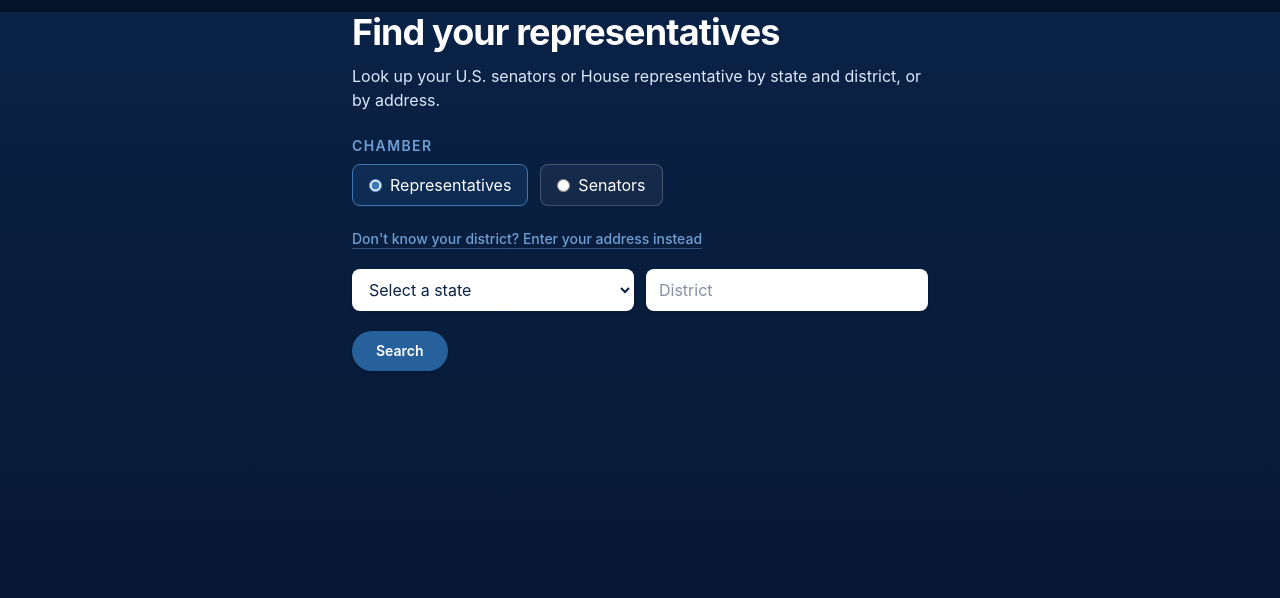
chamber/mode switching regression › clears a selected state that is not senate-eligible when switching to Senators
The width and height of the screenshot is (1280, 598).
Select "Puerto Rico" in the dropdown at (493,290), box [352,269,634,311]
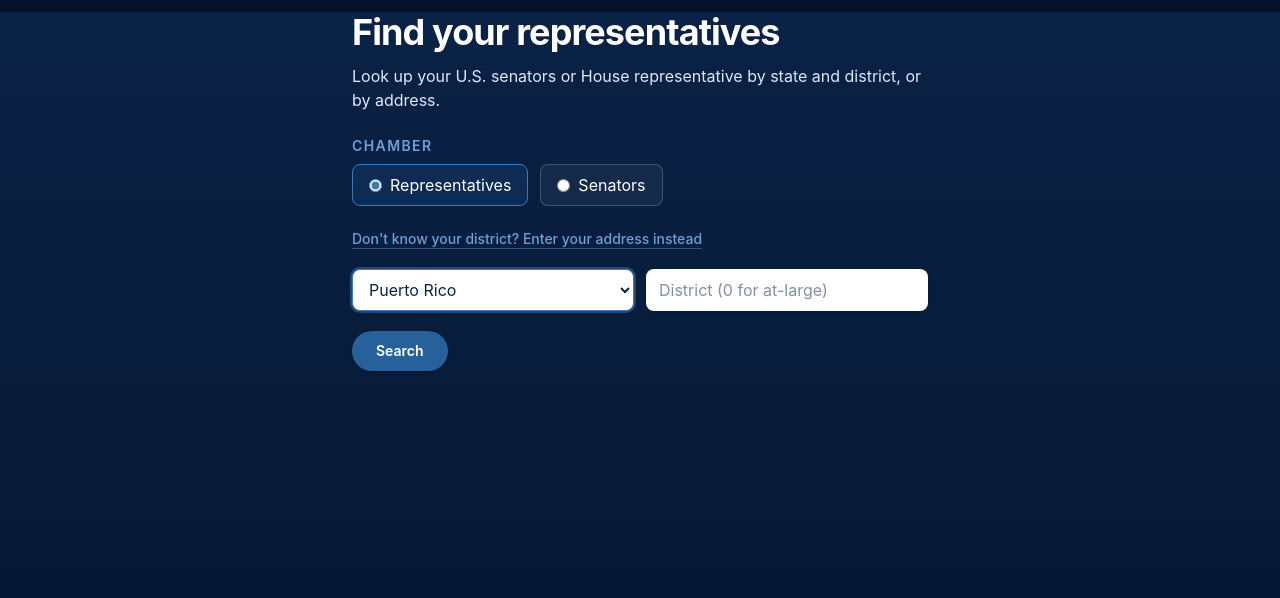
Click the radio button labelled "Senators".
click(564, 185)  # box [557,178,570,192]
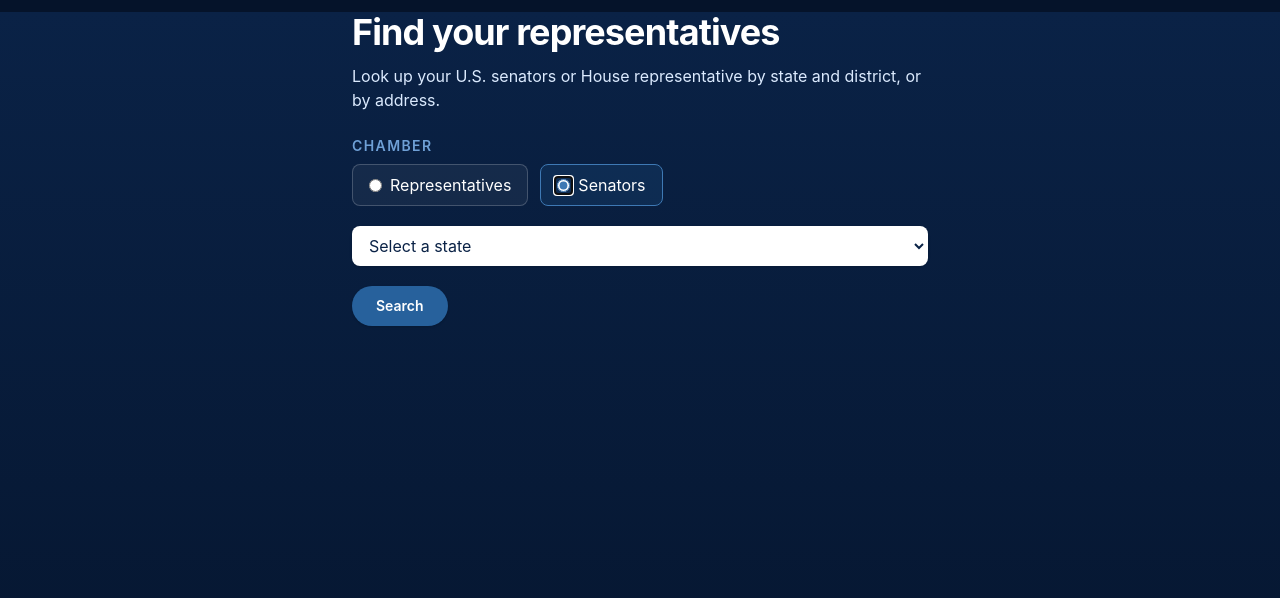
Result: the dropdown shows "Select a state" at [352,226,928,266]
